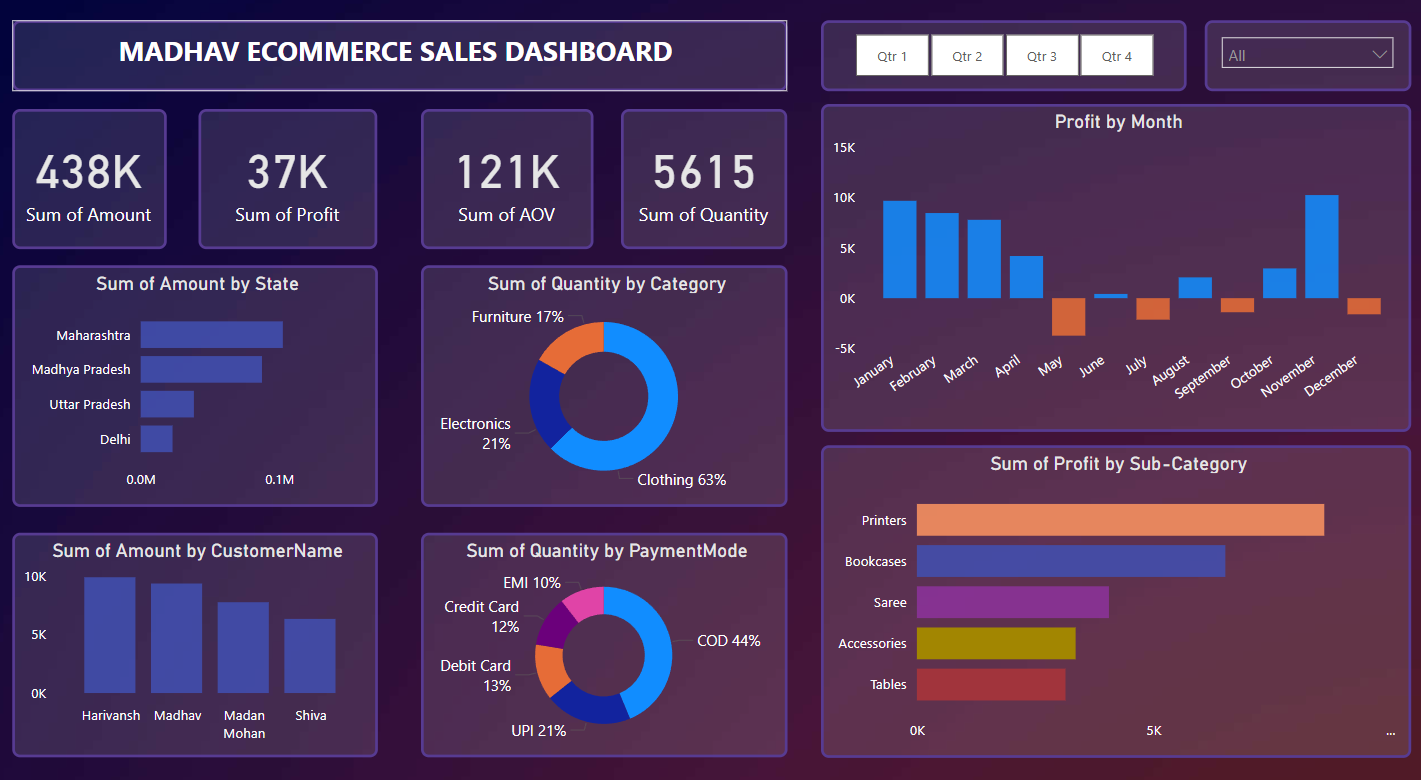

The page's visual inventory and layout, read from the dashboard file:
{"tool":"powerbi","page":{"name":"Page 1","canvas":[1280,720],"ordinal":0},"visuals":[{"type":"columnChart","title":"Profit by Month","fields":{"Y":["Details.Profit"],"Category":["Orders.Order Date.Variation.Date Hierarchy.Month"]},"box":[743.7,97.4,525.6,292.3],"z":1000},{"type":"barChart","fields":{"Category":["Details.Sub-Category"],"Y":["Details.Profit"]},"box":[743.7,402.1,525.6,278.6],"z":2000},{"type":"donutChart","fields":{"Category":["Details.Category"],"Y":["Details.Quantity"]},"box":[387,241.5,326.6,215.4],"z":3000},{"type":"donutChart","fields":{"Y":["Details.Quantity"],"Category":["Details.PaymentMode"]},"box":[387,480.3,326.6,200.3],"z":4000},{"type":"card","fields":{"Values":["Details.Amount"]},"box":[23.3,102.9,137.2,124.9],"z":5000},{"type":"card","fields":{"Values":["Details.Profit"]},"box":[189.4,102.9,159.2,124.9],"z":6000},{"type":"card","fields":{"Values":["Details.AOV"]},"box":[387,102.9,153.7,124.9],"z":7000},{"type":"card","fields":{"Values":["Details.Quantity"]},"box":[565.4,102.9,148.2,124.9],"z":8000},{"type":"barChart","fields":{"Category":["Orders.State"],"Y":["Details.Amount"]},"box":[23.3,241.5,325.2,215.4],"z":9000},{"type":"columnChart","fields":{"Category":["Orders.CustomerName"],"Y":["Details.Amount"]},"box":[23.3,480.3,325.2,200.3],"z":9001},{"type":"slicer","fields":{"Values":["Orders.Order Date.Variation.Date Hierarchy.Quarter"]},"box":[743.7,23.3,325.2,63.1],"z":9002},{"type":"slicer","fields":{"Values":["Orders.State"]},"box":[1085.4,23.3,160.5,63.1],"z":9003},{"type":"textbox","box":[23.3,23.3,690.2,63.1],"z":9004}]}

Visuals, with their boxes in screenshot pixels (x1, y1, x2, y2), scaled from the page's 1280x720 canvas onto the 1421x780 screenshot:
"Profit by Month" columnChart: detection(826, 106, 1409, 422)
barChart - Details.Sub-Category x Details.Profit: detection(826, 436, 1409, 737)
donutChart - Details.Category x Details.Quantity: detection(430, 262, 792, 495)
donutChart - Details.Quantity x Details.PaymentMode: detection(430, 520, 792, 737)
card - Details.Amount: detection(26, 111, 178, 247)
card - Details.Profit: detection(210, 111, 387, 247)
card - Details.AOV: detection(430, 111, 600, 247)
card - Details.Quantity: detection(628, 111, 792, 247)
barChart - Orders.State x Details.Amount: detection(26, 262, 387, 495)
columnChart - Orders.CustomerName x Details.Amount: detection(26, 520, 387, 737)
slicer - Orders.Order Date.Variation.Date Hierarchy.Quarter: detection(826, 25, 1187, 94)
slicer - Orders.State: detection(1205, 25, 1383, 94)
textbox: detection(26, 25, 792, 94)
